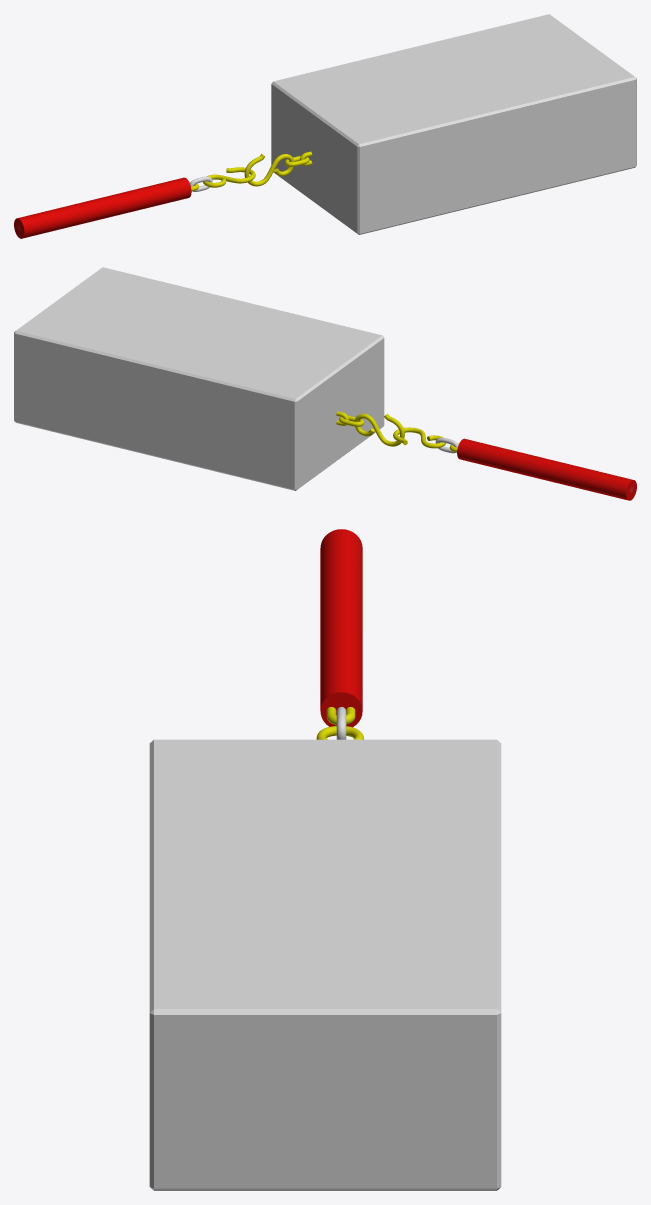
Rendered from dinamometro_ObjetoPesado.fbx.
3 views of the same model, one above another, from view 1: azimuth 30°, elevation 25°; view 2: azimuth 150°, elevation 25°; view 3: azimuth 270°, elevation 25° (orthographic). The views are drawn at different scales.
Parts seen in each view (by area): view 1: CuboPesado, BrazoDinamometro, GanchoCuboPesado, GanchoDinamometro; view 2: CuboPesado, BrazoDinamometro, GanchoCuboPesado, GanchoDinamometro; view 3: CuboPesado, BrazoDinamometro.
Part boxes in pixels (x1,y1,x2,y2): CuboPesado: [271, 14, 636, 234]; BrazoDinamometro: [14, 177, 191, 238]; GanchoCuboPesado: [244, 153, 293, 186]; GanchoDinamometro: [203, 167, 255, 187]; CuboPesado: [14, 267, 384, 490]; BrazoDinamometro: [457, 438, 636, 500]; GanchoCuboPesado: [354, 413, 404, 446]; GanchoDinamometro: [393, 427, 445, 448]; CuboPesado: [149, 739, 501, 1190]; BrazoDinamometro: [320, 529, 362, 727].
Size of the model in its own units: 822 by 125 by 219.
